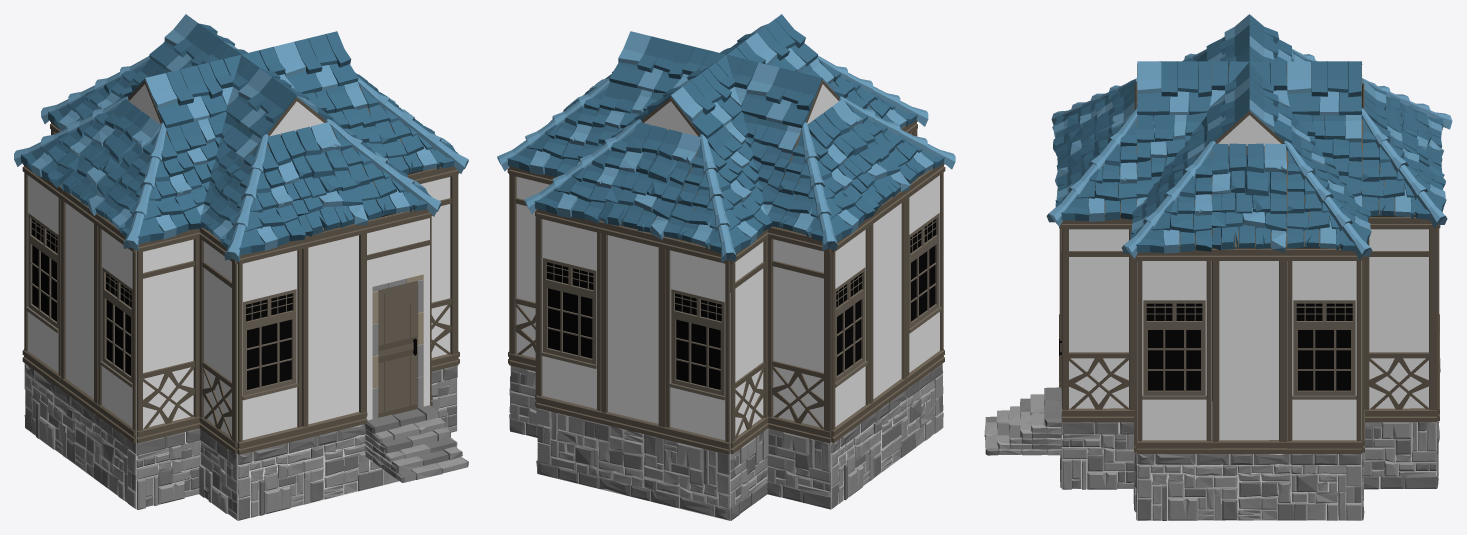
File: House_03_full.glb
3 views of the same model, side by side, from view 1: azimuth 30°, elevation 25°; view 2: azimuth 150°, elevation 25°; view 3: azimuth 270°, elevation 25° (orthographic).
Parts seen in each view (by area): view 1: WALL_03_3, WINDOW_04_3, WALL_04_4, DOOR_02_2, FOUNDATION_02_10, WINDOW_04_4, WALL_04_3, WALL_03_4, WINDOW_04_5, FOUNDATION_02_11, ROOF_base_3, ROOF_corner_out_3 (+20 smaller); view 2: WALL_03_5, WINDOW_04_6, WINDOW_04_7, WALL_04_5, FOUNDATION_02_12, WALL_03_4, WINDOW_04_5, WALL_04_6, WINDOW_04_4, FOUNDATION_02_11, ROOF_base_5, ROOF_corner_out_6 (+21 smaller); view 3: WALL_03_6, WINDOW_04_8, WINDOW_04_9, FOUNDATION_02_13, WALL_04_7, WALL_04_10, ROOF_base_4, ROOF_corner_out_5, ROOF_corner_out_4, ROOF_corner_out_2, ROOF_corner_out_7, FOUNDATION_03_17 (+19 smaller).
Part boxes in pixels (<box>): WALL_03_3: <box>302,223,367,438</box>; WINDOW_04_3: <box>237,240,303,454</box>; WALL_04_4: <box>136,228,200,443</box>; DOOR_02_2: <box>366,209,431,420</box>; FOUNDATION_02_10: <box>237,424,399,520</box>; WINDOW_04_4: <box>96,214,136,442</box>; WALL_04_3: <box>199,228,237,454</box>; WALL_03_4: <box>59,187,98,415</box>; WINDOW_04_5: <box>22,163,61,388</box>; FOUNDATION_02_11: <box>25,364,136,509</box>; ROOF_base_3: <box>267,122,367,236</box>; ROOF_corner_out_3: <box>200,134,305,262</box>; WALL_03_5: <box>600,221,665,438</box>; WINDOW_04_6: <box>664,237,730,454</box>; WINDOW_04_7: <box>536,209,601,423</box>; WALL_04_5: <box>767,226,831,443</box>; FOUNDATION_02_12: <box>537,408,729,520</box>; WALL_03_4: <box>869,190,907,415</box>; WINDOW_04_5: <box>831,217,870,442</box>; WALL_04_6: <box>730,229,768,454</box>; WINDOW_04_4: <box>906,163,945,388</box>; FOUNDATION_02_11: <box>831,364,943,508</box>; ROOF_base_5: <box>599,122,700,239</box>; ROOF_corner_out_6: <box>663,134,772,262</box>; WALL_03_6: <box>1212,248,1286,453</box>; WINDOW_04_8: <box>1287,248,1361,453</box>; WINDOW_04_9: <box>1137,248,1211,453</box>; FOUNDATION_02_13: <box>1137,454,1361,520</box>; WALL_04_7: <box>1364,217,1436,422</box>; WALL_04_10: <box>1062,217,1134,422</box>; ROOF_base_4: <box>1211,143,1287,252</box>; ROOF_corner_out_5: <box>1121,140,1216,258</box>; ROOF_corner_out_4: <box>1283,140,1372,260</box>; ROOF_corner_out_2: <box>1046,108,1137,226</box>; ROOF_corner_out_7: <box>1361,108,1447,228</box>; FOUNDATION_03_17: <box>1062,422,1134,489</box>.
Bounding box in the file's own units: 5.41 × 5.59 × 6.24.
Materials: 1 (1 with a texture image).
